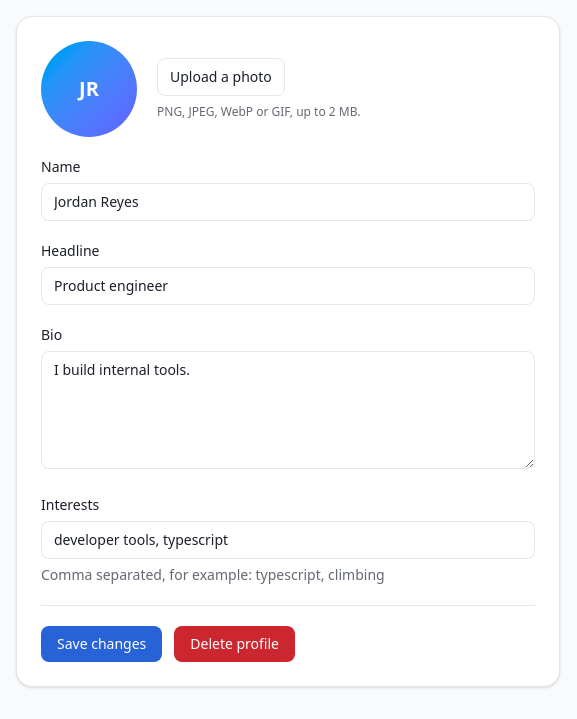
Test case: profile page › explains an over-sized upload instead of failing silently
The width and height of the screenshot is (577, 719).
(page scrolled)
Expected: the field showing "Jordan Reyes" is shown, [41,183,535,221]
Click the button "Save changes" at (102, 644), box [41,626,162,662]
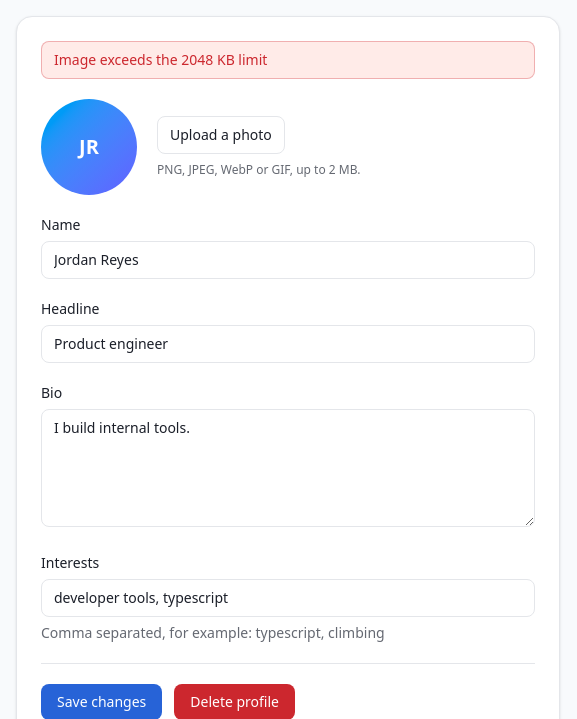
Result: the message shows "exceeds the 2048 KB limit" at [54,50,267,69]
